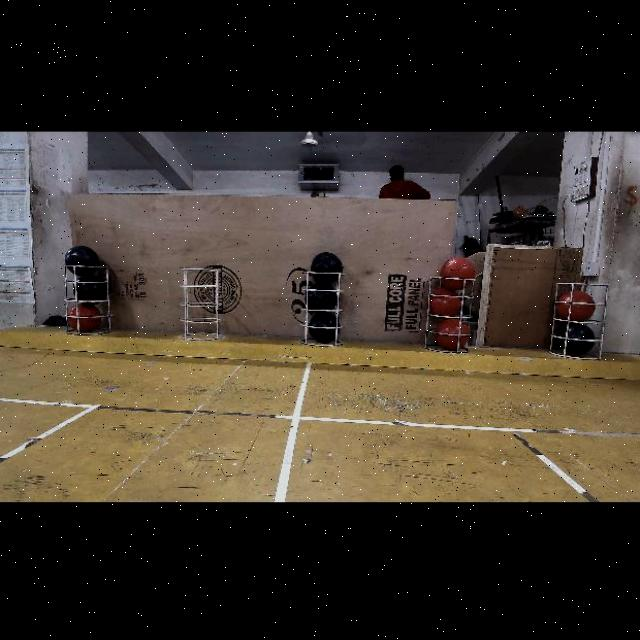P: (558, 323, 594, 357), (64, 246, 99, 276), (311, 253, 343, 284), (310, 314, 340, 344), (75, 276, 107, 304), (308, 284, 336, 312)
R: (440, 257, 476, 292), (558, 292, 594, 322), (67, 304, 103, 332), (436, 318, 468, 348), (428, 288, 460, 318)
S: (547, 281, 613, 363), (57, 260, 117, 344), (295, 268, 349, 354), (424, 272, 476, 358), (182, 267, 226, 347)
